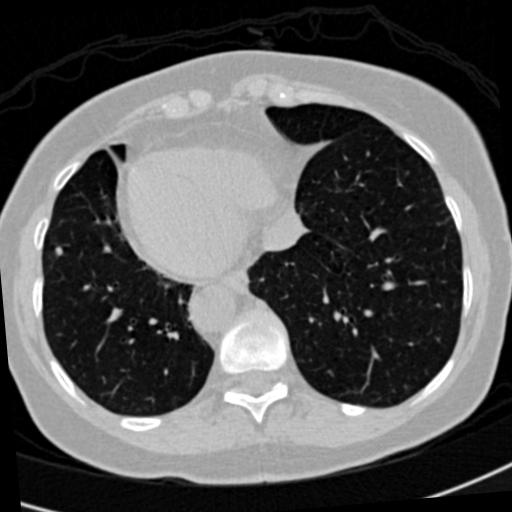nodule: (55, 245, 69, 259)
